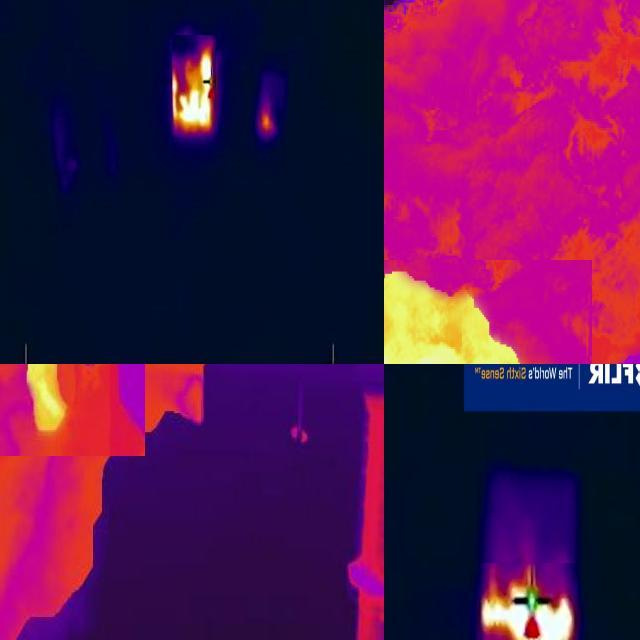fire: (385, 268, 525, 364), (479, 563, 578, 640), (172, 35, 216, 137), (24, 364, 72, 441), (257, 100, 275, 138)
